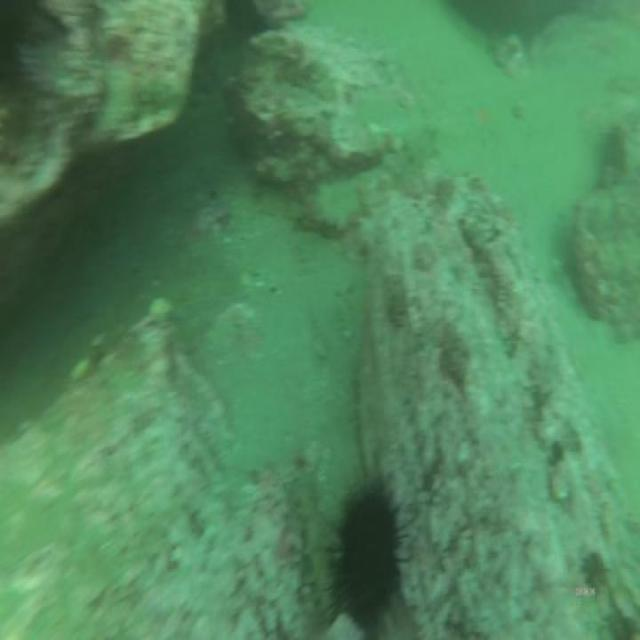echinus: (316, 458, 415, 632)
